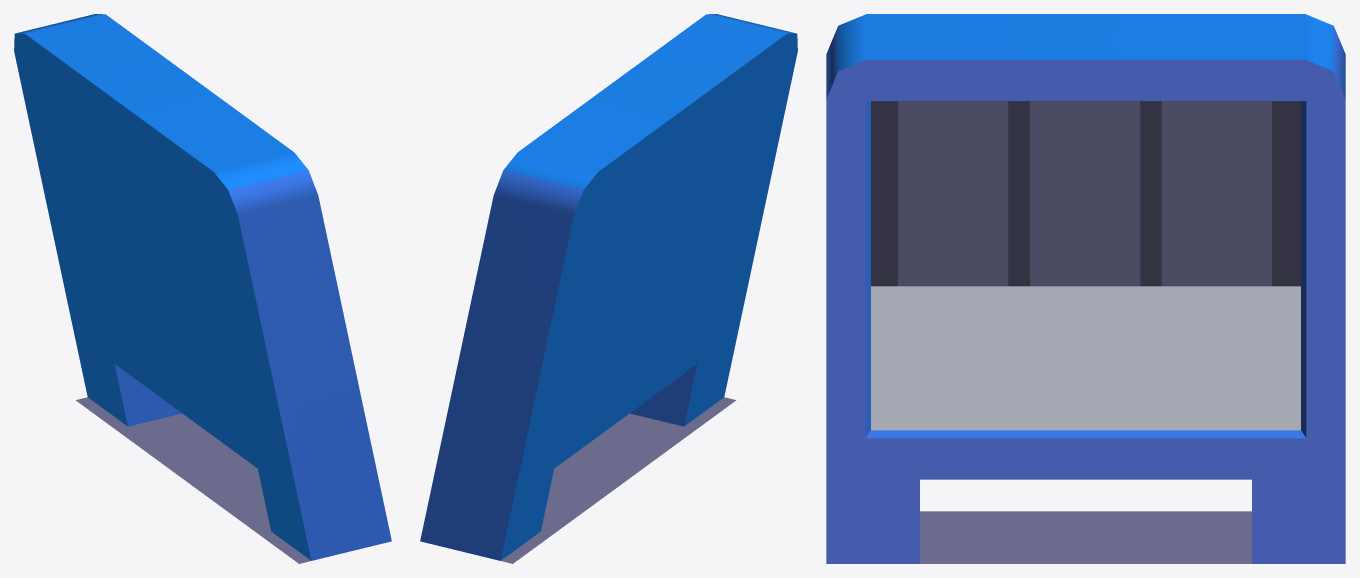
Rendered from Sign_Airport_Low.fbx.
3 renders of one model, left to right at view 1: azimuth 30°, elevation 25°; view 2: azimuth 150°, elevation 25°; view 3: azimuth 270°, elevation 25°, orthographic. The views are drawn at different scales.
Parts seen in each view (by area): view 1: Sign_Airport_Low; view 2: Sign_Airport_Low; view 3: Sign_Airport_Low.
Part boxes in pixels (x1,y1,x2,y2): Sign_Airport_Low: (14,14,391,563); Sign_Airport_Low: (420,14,797,563); Sign_Airport_Low: (826,14,1345,563).
Size of the model in its own units: 6.34 by 14.93 by 15.3.
